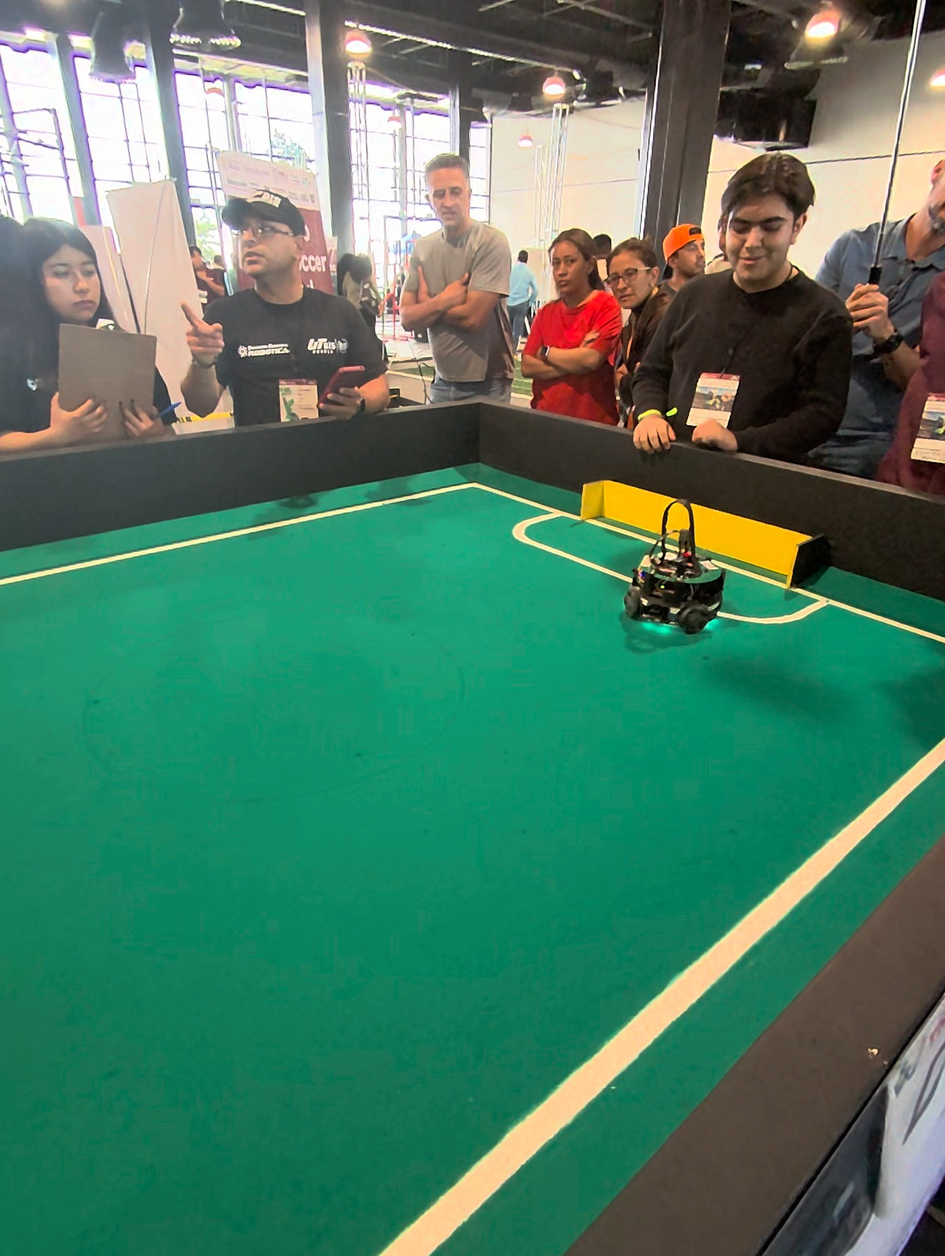Robot: (628, 492, 730, 643)
